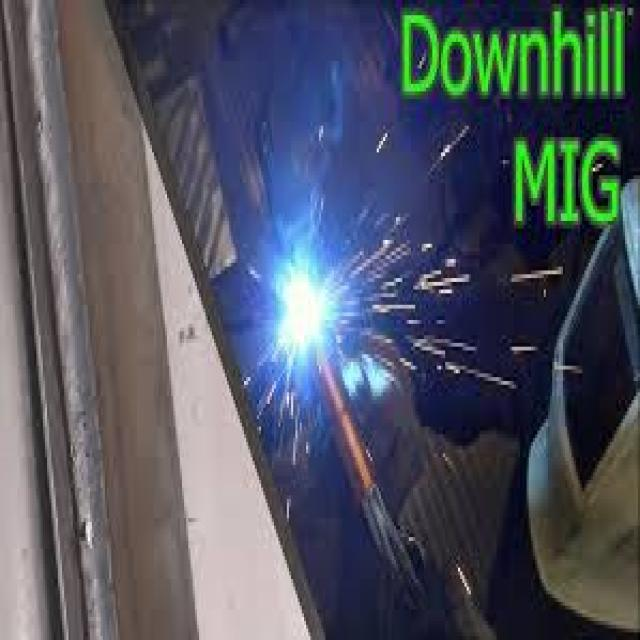welding: (285, 282, 326, 351)
